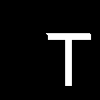half_double_crochet: (46, 33, 90, 85)
